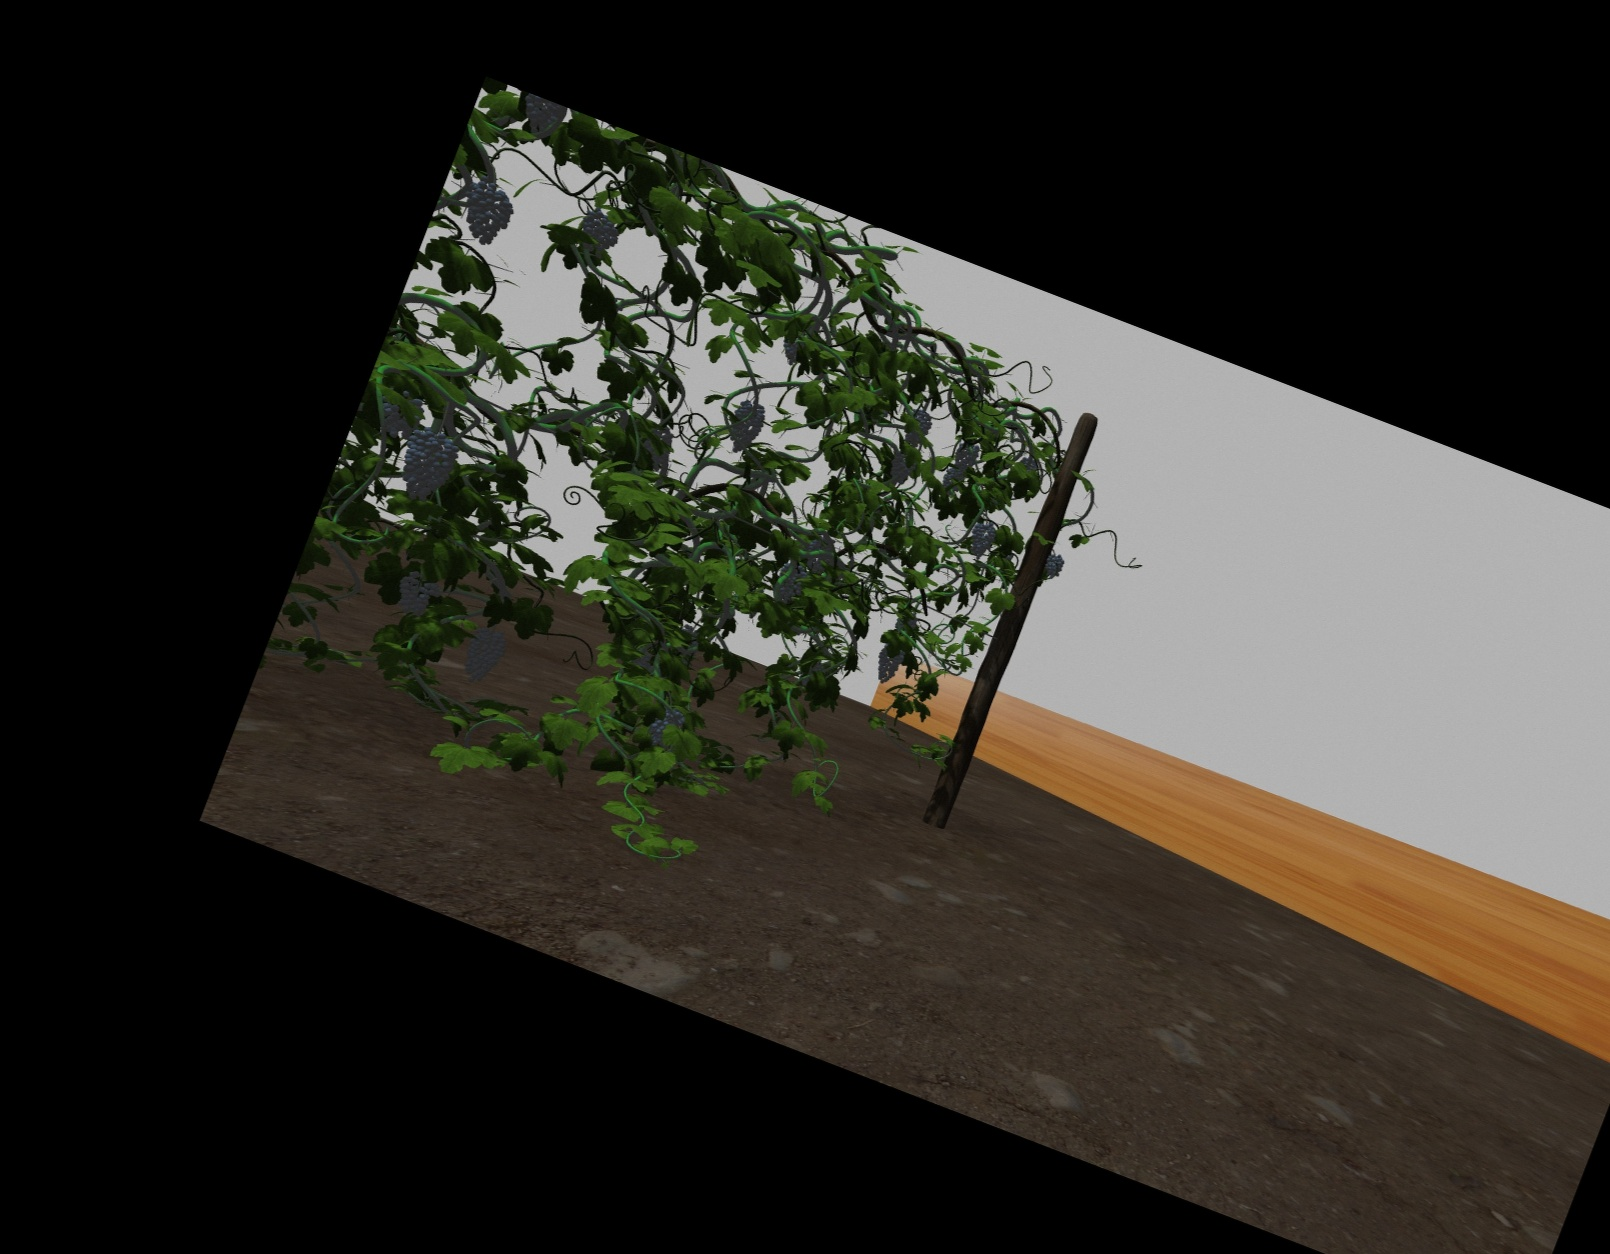grape: (400, 428, 452, 500), (461, 185, 510, 242), (465, 626, 502, 684), (380, 393, 421, 438), (397, 573, 436, 617), (580, 213, 619, 253), (731, 401, 761, 453), (651, 708, 680, 747), (521, 103, 557, 133), (776, 563, 802, 603), (968, 519, 993, 559), (876, 645, 900, 683), (806, 538, 832, 573), (906, 410, 930, 445), (890, 453, 915, 482), (955, 443, 977, 472), (942, 468, 963, 492), (1045, 553, 1064, 579)
